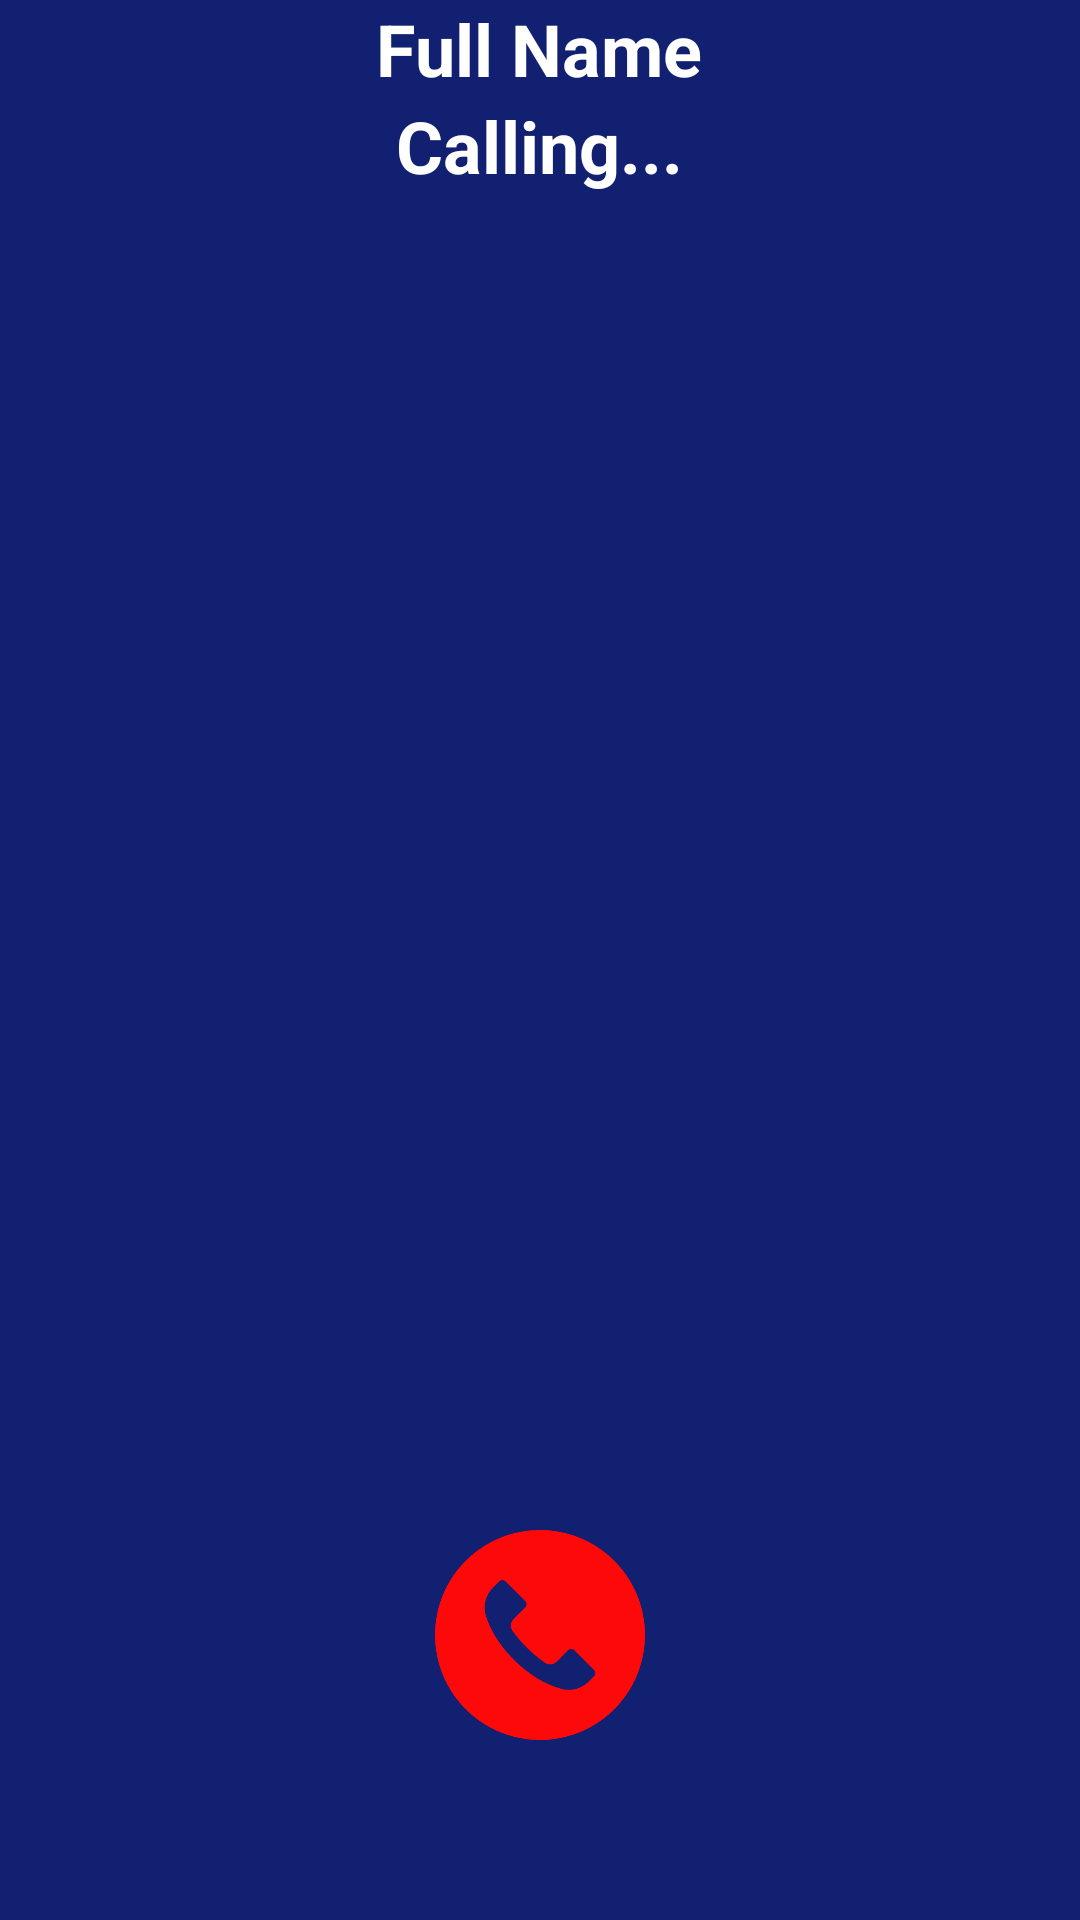

Screen size 1080 × 1920. Icon name, then its box in pixels as box=[x1, y1, x2, y2]:
reject: box=[435, 1530, 645, 1740]
